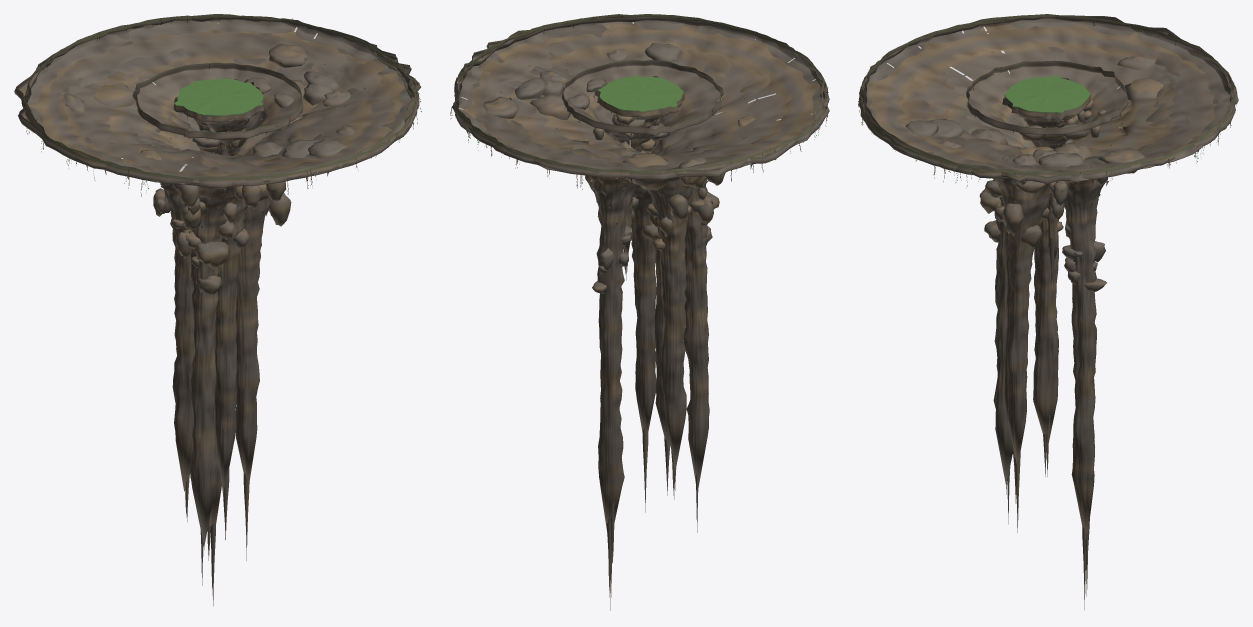
The model's file is arch_vh_island.9e21d8881d.glb.
The picture shows the model from 3 angles, left to right: view 1: azimuth 30°, elevation 25°; view 2: azimuth 150°, elevation 25°; view 3: azimuth 270°, elevation 25°; orthographic projection. The views are drawn at different scales.
Visible parts, largest first — view 1: vhrock_loi_van_dao, vhrock_kinh_ngu_dai, vhrock_kinh_ho_dao, vhrock_thach_quy_dao, vhrock_tung_dai_dao, vhrock_hub, vhfake_a, vhfake_b; view 2: vhrock_kinh_ngu_dai, vhrock_loi_van_dao, vhrock_tung_dai_dao, vhrock_thach_quy_dao, vhrock_kinh_ho_dao, vhrock_hub, vhfake_a, vhfake_b, vhrock_tieu_dao; view 3: vhrock_kinh_ngu_dai, vhrock_loi_van_dao, vhrock_thach_quy_dao, vhrock_tung_dai_dao, vhrock_kinh_ho_dao, vhrock_hub, vhfake_b, vhfake_a.
Boxes of the visible parts, left/top/right/bottom form: vhrock_loi_van_dao: left=23, top=16, right=413, bottom=585; vhrock_kinh_ngu_dai: left=26, top=15, right=419, bottom=606; vhrock_kinh_ho_dao: left=24, top=15, right=416, bottom=540; vhrock_thach_quy_dao: left=14, top=14, right=421, bottom=560; vhrock_tung_dai_dao: left=23, top=15, right=420, bottom=521; vhrock_hub: left=132, top=62, right=303, bottom=155; vhfake_a: left=173, top=79, right=264, bottom=155; vhfake_b: left=177, top=79, right=264, bottom=149; vhrock_kinh_ngu_dai: left=454, top=14, right=828, bottom=610; vhrock_loi_van_dao: left=455, top=17, right=823, bottom=532; vhrock_tung_dai_dao: left=450, top=15, right=829, bottom=499; vhrock_thach_quy_dao: left=454, top=14, right=829, bottom=512; vhrock_kinh_ho_dao: left=453, top=14, right=827, bottom=495; vhrock_hub: left=562, top=60, right=723, bottom=280; vhfake_a: left=597, top=77, right=684, bottom=125; vhfake_b: left=599, top=75, right=684, bottom=125; vhrock_tieu_dao: left=592, top=76, right=669, bottom=151; vhrock_kinh_ngu_dai: left=862, top=15, right=1235, bottom=610; vhrock_loi_van_dao: left=863, top=14, right=1238, bottom=524; vhrock_thach_quy_dao: left=859, top=14, right=1237, bottom=532; vhrock_tung_dai_dao: left=858, top=14, right=1232, bottom=476; vhrock_kinh_ho_dao: left=858, top=15, right=1235, bottom=503; vhrock_hub: left=965, top=60, right=1128, bottom=286; vhfake_b: left=1007, top=78, right=1093, bottom=127; vhfake_a: left=1004, top=75, right=1090, bottom=127.
Bounding box in the file's own units: 457 × 663 × 446.
